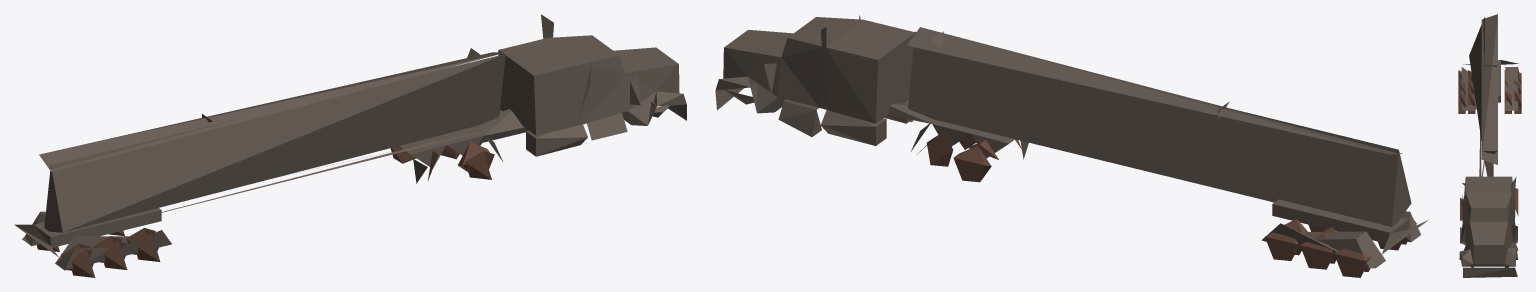
The model's file is oil-tanker.lod2.glb.
3 renders of one model, left to right at view 1: azimuth 30°, elevation 25°; view 2: azimuth 150°, elevation 25°; view 3: azimuth 270°, elevation 25°, orthographic. The views are drawn at different scales.
Visible parts, largest first — view 1: Frieghtliner Oil Tanker_Body_0; view 2: Frieghtliner Oil Tanker_Body_0; view 3: Frieghtliner Oil Tanker_Body_0.
Boxes of the visible parts, left/top/right/bottom form: Frieghtliner Oil Tanker_Body_0: left=14, top=14, right=686, bottom=277; Frieghtliner Oil Tanker_Body_0: left=715, top=15, right=1428, bottom=277; Frieghtliner Oil Tanker_Body_0: left=1458, top=14, right=1521, bottom=277.
Bounding box in the file's own units: 19 × 3.27 × 2.53.
